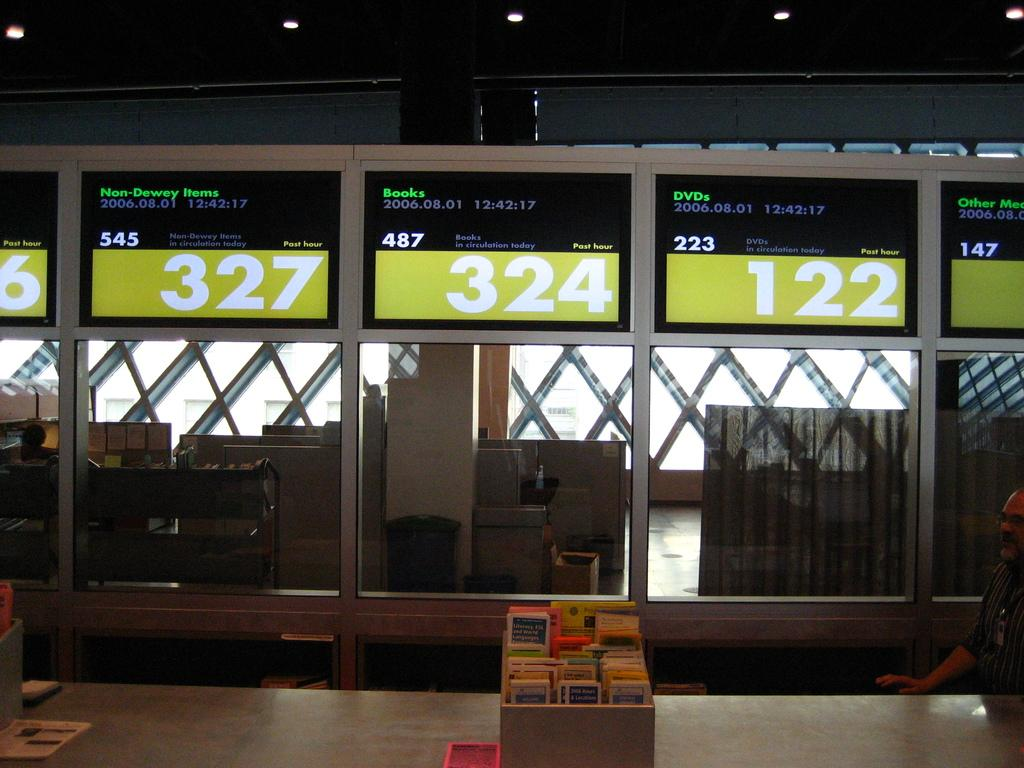book: (506, 606, 658, 710), (512, 676, 552, 704)
